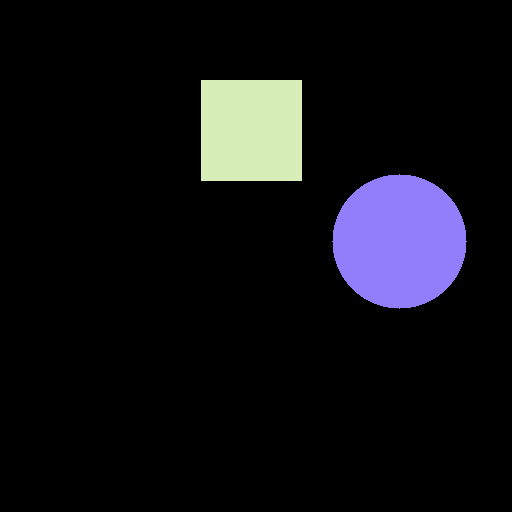circle: (332, 174, 466, 308)
square: (201, 80, 301, 180)
